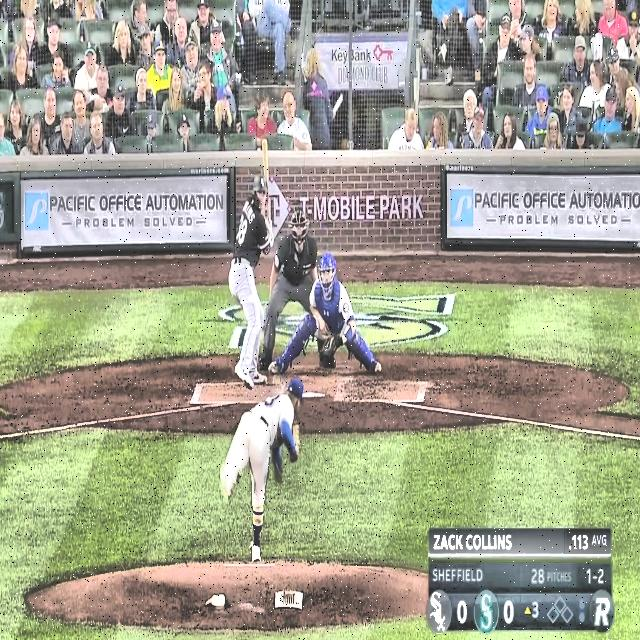baseball: (246, 292, 255, 306)
